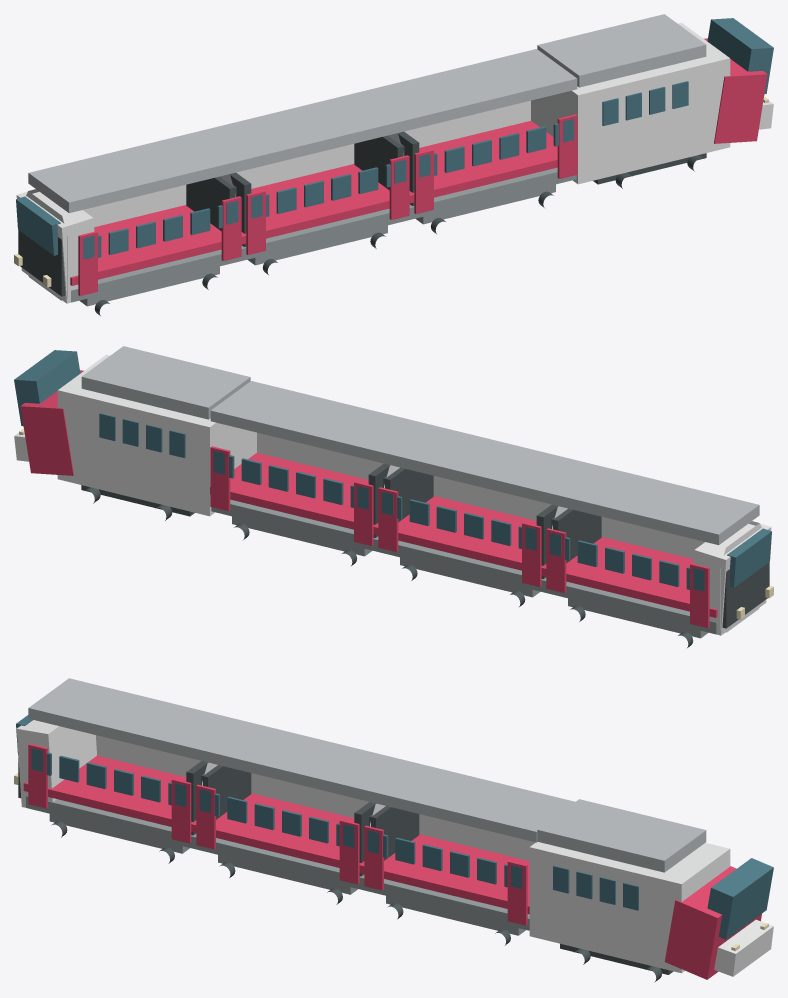
Rendered from talent2.glb.
The picture shows the model from 3 angles, top to bottom: view 1: azimuth 30°, elevation 25°; view 2: azimuth 150°, elevation 25°; view 3: azimuth 330°, elevation 25°; orthographic projection.
Parts seen in each view (by area): view 1: talent_body, talent2_car_3_roof, talent2_car_1_roof, talent2_car_2_roof, roof, talent2_car_1_identity_stripe, talent2_car_2_identity_stripe, talent2_car_3_identity_stripe, hamster_cheek_nose, talent2_car_1_chamfered_train_shell, talent2_car_2_lower_skirt, talent2_car_3_chamfered_train_shell (+20 smaller); view 2: talent_body, talent2_car_3_roof, talent2_car_1_roof, talent2_car_2_roof, roof, talent2_car_1_identity_stripe, talent2_car_2_identity_stripe, talent2_car_3_identity_stripe, hamster_cheek_nose, talent2_car_1_chamfered_train_shell, talent2_car_2_lower_skirt, talent2_car_3_chamfered_train_shell (+20 smaller); view 3: talent_body, talent2_car_3_roof, talent2_car_2_roof, talent2_car_1_roof, roof, talent2_car_1_identity_stripe, talent2_car_2_identity_stripe, talent2_car_3_identity_stripe, hamster_cheek_nose, bulbous_black_mask, talent2_car_3_tail_cab_face, talent2_car_2_lower_skirt (+19 smaller).
Part boxes in pixels (x1=…): talent_body: x1=531, y1=22, x2=730, y2=184; talent2_car_3_roof: x1=28, y1=132, x2=241, y2=213; talent2_car_1_roof: x1=365, y1=49, x2=577, y2=131; talent2_car_2_roof: x1=197, y1=91, x2=404, y2=171; roof: x1=537, y1=14, x2=706, y2=87; talent2_car_1_identity_stripe: x1=409, y1=121, x2=577, y2=202; talent2_car_2_identity_stripe: x1=241, y1=164, x2=413, y2=244; talent2_car_3_identity_stripe: x1=70, y1=205, x2=245, y2=285; hamster_cheek_nose: x1=704, y1=38, x2=767, y2=143; talent2_car_1_chamfered_train_shell: x1=388, y1=100, x2=530, y2=156; talent2_car_2_lower_skirt: x1=239, y1=207, x2=411, y2=261; talent2_car_3_chamfered_train_shell: x1=26, y1=185, x2=186, y2=300; talent_body: x1=57, y1=354, x2=256, y2=516; talent2_car_3_roof: x1=546, y1=464, x2=759, y2=545; talent2_car_1_roof: x1=210, y1=381, x2=422, y2=463; talent2_car_2_roof: x1=383, y1=423, x2=590, y2=502; roof: x1=81, y1=346, x2=250, y2=419; talent2_car_1_identity_stripe: x1=210, y1=453, x2=378, y2=534; talent2_car_2_identity_stripe: x1=374, y1=496, x2=546, y2=575; talent2_car_3_identity_stripe: x1=542, y1=537, x2=717, y2=617; hamster_cheek_nose: x1=20, y1=370, x2=83, y2=475; talent2_car_1_chamfered_train_shell: x1=257, y1=432, x2=399, y2=488; talent2_car_2_lower_skirt: x1=376, y1=539, x2=548, y2=593; talent2_car_3_chamfered_train_shell: x1=601, y1=517, x2=761, y2=632; talent_body: x1=529, y1=842, x2=730, y2=973; talent2_car_3_roof: x1=28, y1=678, x2=240, y2=759; talent2_car_2_roof: x1=196, y1=719, x2=408, y2=800; talent2_car_1_roof: x1=364, y1=761, x2=575, y2=842; roof: x1=537, y1=799, x2=706, y2=872; talent2_car_1_identity_stripe: x1=359, y1=834, x2=529, y2=914; talent2_car_2_identity_stripe: x1=191, y1=793, x2=364, y2=868; talent2_car_3_identity_stripe: x1=23, y1=755, x2=196, y2=831; hamster_cheek_nose: x1=664, y1=866, x2=761, y2=979; bulbous_black_mask: x1=707, y1=858, x2=773, y2=939; talent2_car_3_tail_cab_face: x1=16, y1=720, x2=96, y2=807; talent2_car_2_lower_skirt: x1=194, y1=835, x2=365, y2=890.
Size of the model in its own units: 6.38 by 1.03 by 0.791.
